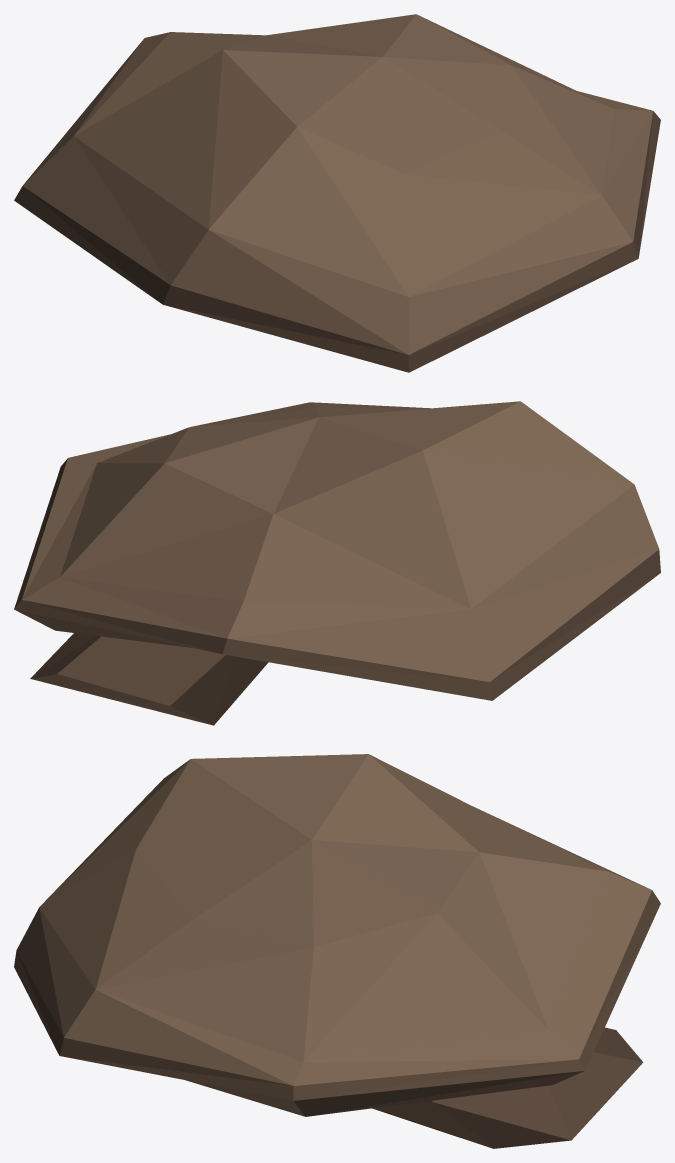
The model's file is SM_Clinging_Mushroom_03.fbx.
3 renders of one model, top to bottom at view 1: azimuth 30°, elevation 25°; view 2: azimuth 150°, elevation 25°; view 3: azimuth 270°, elevation 25°, orthographic. The views are drawn at different scales.
Visible parts, largest first — view 1: SM_Clinging_Mushroom_03; view 2: SM_Clinging_Mushroom_03; view 3: SM_Clinging_Mushroom_03.
Part boxes in pixels (x1,y1,x2,y2): SM_Clinging_Mushroom_03: [14, 14, 660, 372]; SM_Clinging_Mushroom_03: [14, 401, 660, 725]; SM_Clinging_Mushroom_03: [14, 754, 660, 1148].
Bounding box in the file's own units: 62.38 × 29.01 × 61.55.
